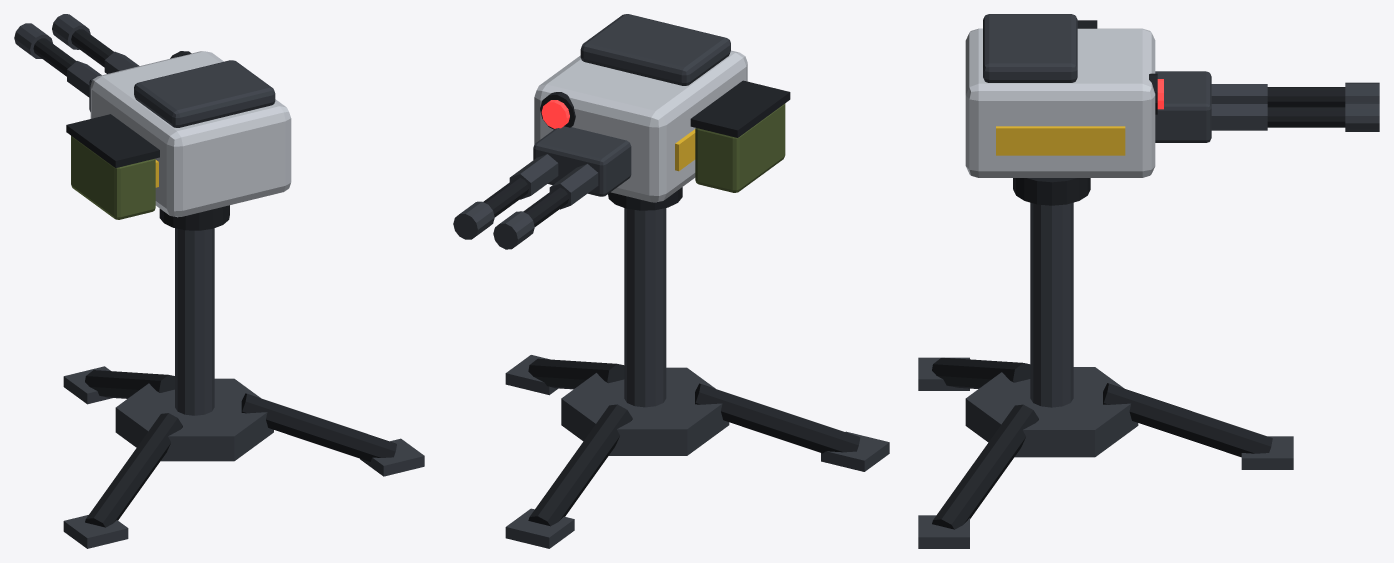
Rendered from zk-turret.glb.
The picture shows the model from 3 angles, left to right: view 1: azimuth 30°, elevation 25°; view 2: azimuth 150°, elevation 25°; view 3: azimuth 270°, elevation 25°; orthographic projection. The views are drawn at different scales.
Parts seen in each view (by area): view 1: turret_head, turret, turret_gun; view 2: turret, turret_head, turret_gun; view 3: turret, turret_head, turret_gun.
Boxes of the visible parts, <box> form: turret_head: <box>66,51,291,219</box>; turret: <box>63,205,424,548</box>; turret_gun: <box>14,14,139,111</box>; turret: <box>505,187,889,548</box>; turret_head: <box>534,14,790,202</box>; turret_gun: <box>453,126,631,249</box>; turret: <box>918,178,1293,548</box>; turret_head: <box>965,14,1163,177</box>; turret_gun: <box>1155,71,1379,142</box>.
Size of the model in its own units: 0.986 by 1.09 by 1.07.
